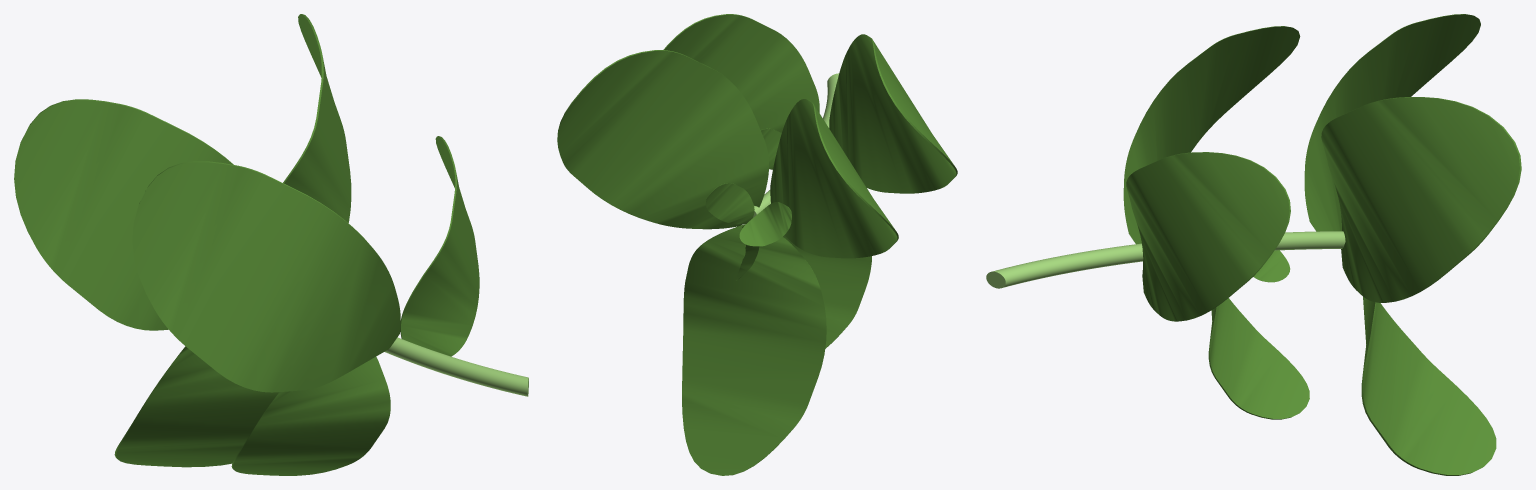
The model's file is herb.fbx.
The picture shows the model from 3 angles, left to right: view 1: azimuth 30°, elevation 25°; view 2: azimuth 150°, elevation 25°; view 3: azimuth 270°, elevation 25°; orthographic projection. The views are drawn at different scales.
Visible parts, largest first — view 1: leaf.008, leaf.003, leaf.010, leaf.001, leaf.009, leaf.002, stem; view 2: leaf.001, leaf.002, leaf.003, leaf.008, leaf.009, leaf.010, leaf.005, leaf.004, stem, leaf; view 3: leaf.002, leaf.009, leaf.001, leaf.008, leaf.003, leaf.010, stem, leaf.007.
Boxes of the visible parts, <box> form: leaf.008: <box>132,161,400,392</box>; leaf.003: <box>14,99,233,330</box>; leaf.010: <box>231,357,390,475</box>; leaf.001: <box>114,346,278,467</box>; leaf.009: <box>400,136,479,356</box>; leaf.002: <box>283,14,351,222</box>; stem: <box>384,337,528,396</box>; leaf.001: <box>682,224,826,475</box>; leaf.002: <box>557,50,768,229</box>; leaf.003: <box>770,99,898,258</box>; leaf.008: <box>829,34,957,193</box>; leaf.009: <box>663,14,819,132</box>; leaf.010: <box>783,235,871,348</box>; leaf.005: <box>739,202,791,246</box>; leaf.004: <box>705,183,754,224</box>; stem: <box>753,73,838,217</box>; leaf: <box>760,128,781,169</box>; leaf.002: <box>1321,97,1521,302</box>; leaf.009: <box>1126,152,1290,321</box>; leaf.001: <box>1361,296,1496,475</box>; leaf.008: <box>1123,26,1300,244</box>; leaf.003: <box>1304,14,1480,231</box>; leaf.010: <box>1208,298,1309,419</box>; stem: <box>986,231,1345,288</box>; leaf.007: <box>1253,250,1290,282</box>.
Size of the model in its own units: 0.3025 by 0.348 by 0.402.
